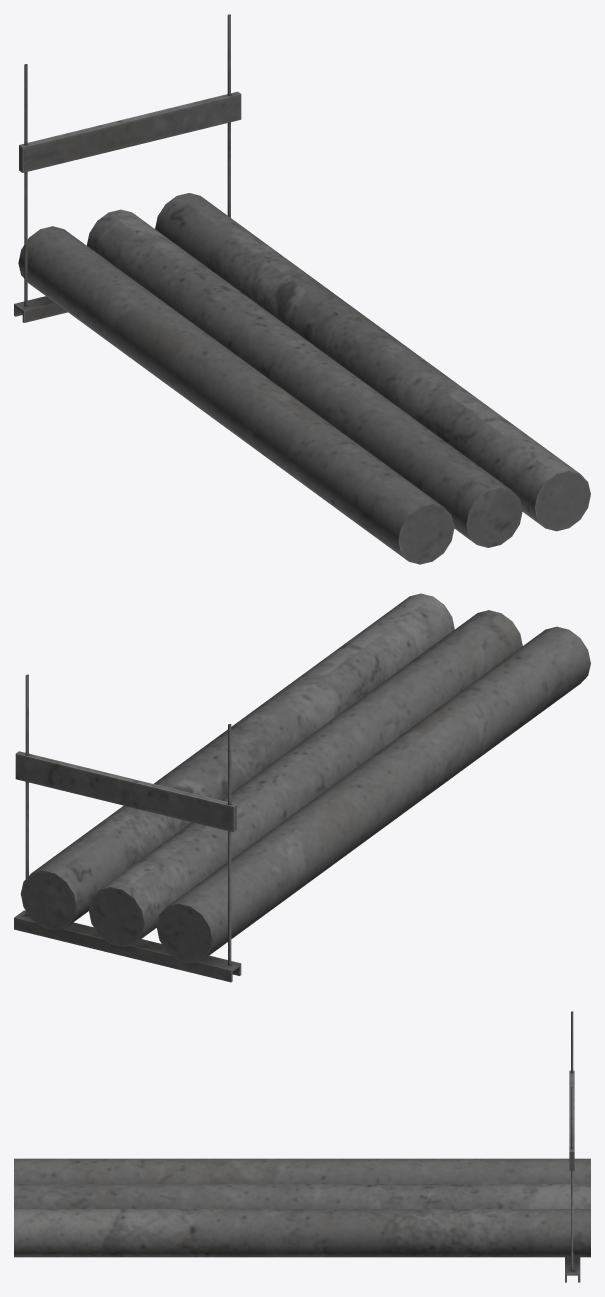
The model's file is SM_Roof_Triple_Pipe_01.fbx.
3 renders of one model, top to bottom at view 1: azimuth 30°, elevation 25°; view 2: azimuth 150°, elevation 25°; view 3: azimuth 270°, elevation 25°, orthographic. The views are drawn at different scales.
Visible parts, largest first — view 1: SM_Roof_Triple_Pipe_01_LOD0; view 2: SM_Roof_Triple_Pipe_01_LOD0; view 3: SM_Roof_Triple_Pipe_01_LOD0.
Part boxes in pixels (x1=…): SM_Roof_Triple_Pipe_01_LOD0: x1=14, y1=14, x2=590, y2=564; SM_Roof_Triple_Pipe_01_LOD0: x1=14, y1=593, x2=590, y2=982; SM_Roof_Triple_Pipe_01_LOD0: x1=14, y1=1011, x2=590, y2=1282.
Size of the model in its own units: 66.95 by 200 by 73.59.
1 material, 1 textured.
